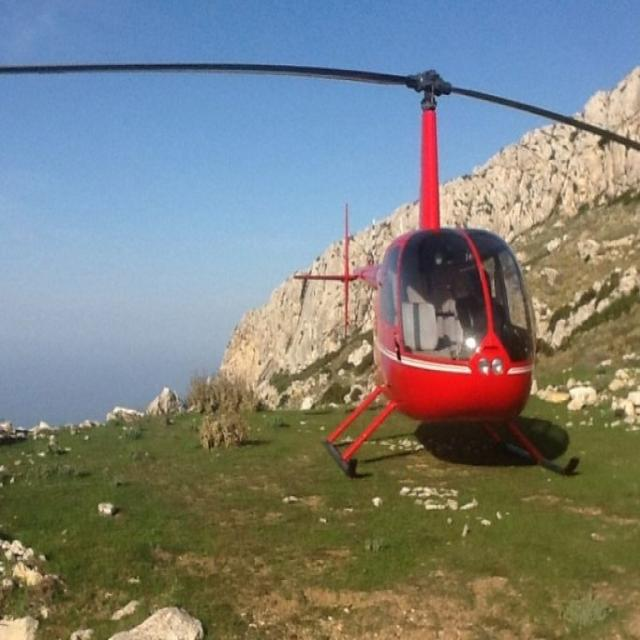CIV_HELO: (291, 65, 584, 481)
